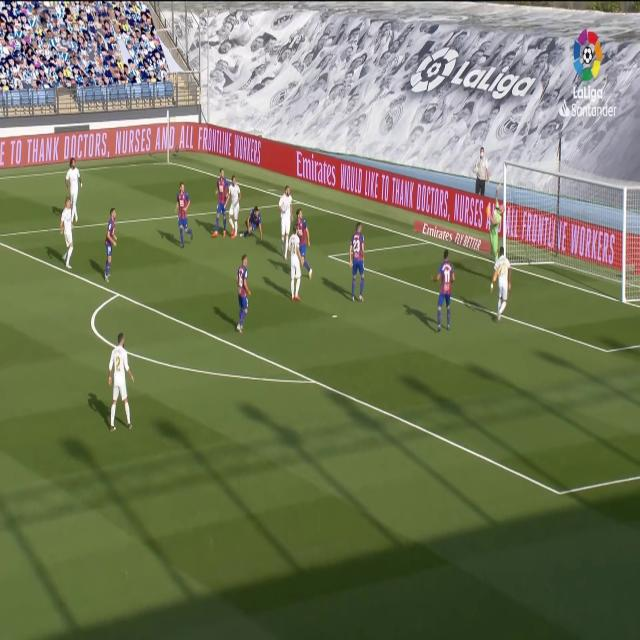team1: (434, 252, 455, 332), (347, 222, 366, 302), (100, 205, 118, 284), (176, 183, 196, 250), (214, 169, 231, 241), (236, 258, 252, 334), (297, 207, 314, 276), (244, 204, 266, 242)
team2: (107, 330, 139, 435), (492, 247, 510, 326), (286, 230, 304, 302), (60, 199, 77, 273), (64, 161, 83, 223), (227, 175, 243, 238), (279, 188, 294, 253)
